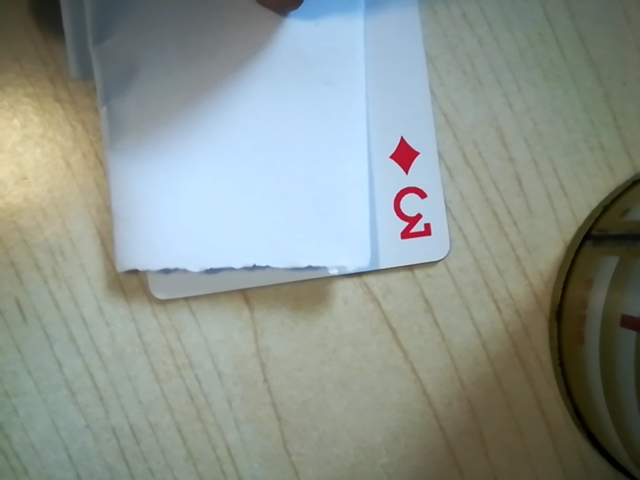fk 3: (376, 130, 441, 253)
